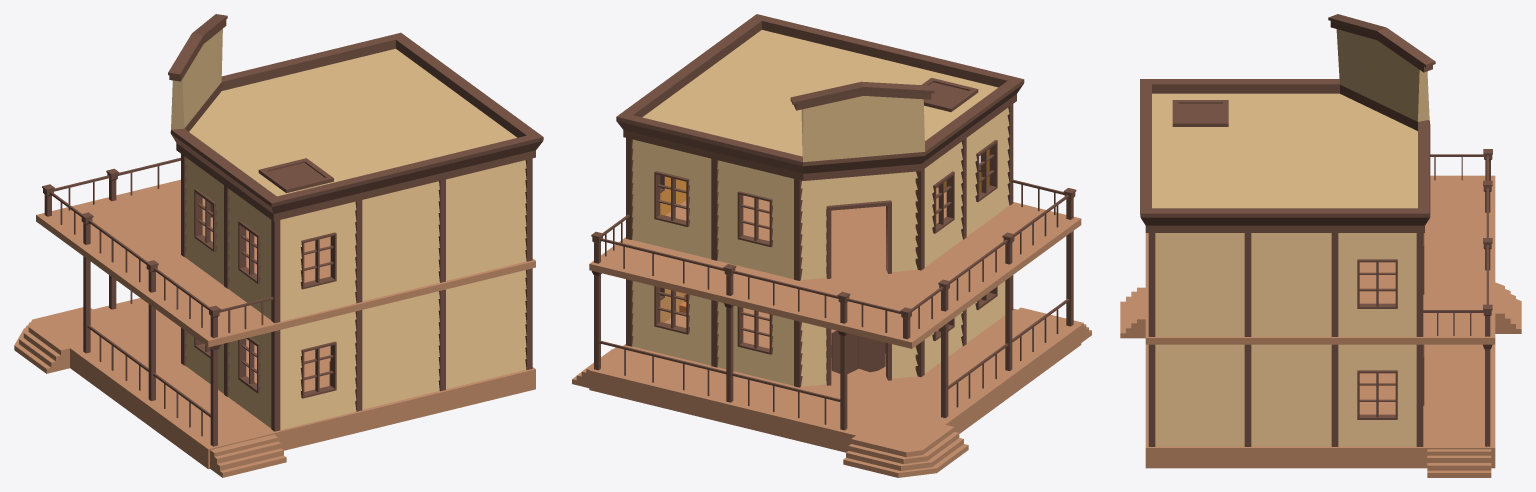
The model's file is TexasHouse 1.fbx.
The picture shows the model from 3 angles, left to right: view 1: azimuth 30°, elevation 25°; view 2: azimuth 150°, elevation 25°; view 3: azimuth 270°, elevation 25°; orthographic projection. The views are drawn at different scales.
Visible parts, largest first — view 1: Teto, OldalLec, Talaj, AblakosOldalLec, Emelet, KulsoKorlat, Ablak, KulsoEsOszlopok.001, KulsoEsOszlopok; view 2: Teto, Talaj, AblakosOldalLec, Emelet, KulsoKorlat, Bejarat, Ablak, KulsoEsOszlopok.001, KulsoEsOszlopok, FentiAjto, Ajto.003, Ajto.002 (+1 smaller); view 3: Teto, OldalLec, Talaj, Emelet, AblakosOldalLec, KulsoEsOszlopok.001, KulsoEsOszlopok, KulsoKorlat, Ablak.
Part boxes in pixels (box(x1,y1,x2,y2)): Teto: box(168, 14, 543, 221); OldalLec: box(362, 160, 526, 409); Talaj: box(14, 298, 535, 477); AblakosOldalLec: box(185, 158, 356, 429); Emelet: box(36, 179, 535, 347); KulsoKorlat: box(42, 157, 273, 446); Ablak: box(194, 188, 336, 398); KulsoEsOszlopok.001: box(181, 154, 532, 323); KulsoEsOszlopok: box(181, 268, 532, 431); Teto: box(616, 14, 1024, 180); Talaj: box(572, 307, 1091, 477); AblakosOldalLec: box(632, 108, 1009, 385); Emelet: box(589, 187, 1081, 348); KulsoKorlat: box(591, 179, 1076, 430); Bejarat: box(801, 171, 917, 386); Ablak: box(654, 140, 997, 354); KulsoEsOszlopok.001: box(626, 104, 1013, 280); KulsoEsOszlopok: box(626, 275, 1013, 387); FentiAjto: box(826, 200, 891, 278); Ajto.003: box(858, 336, 886, 372); Ajto.002: box(831, 330, 858, 373); Teto: box(1140, 14, 1435, 232); OldalLec: box(1155, 233, 1331, 446); Talaj: box(1120, 282, 1521, 477); Emelet: box(1145, 175, 1495, 344); AblakosOldalLec: box(1338, 233, 1416, 446); KulsoEsOszlopok.001: box(1148, 233, 1423, 336); KulsoEsOszlopok: box(1148, 344, 1423, 446); KulsoKorlat: box(1423, 149, 1492, 446); Ablak: box(1357, 233, 1424, 419).
Size of the model in its own units: 3894 by 3251 by 3595.
